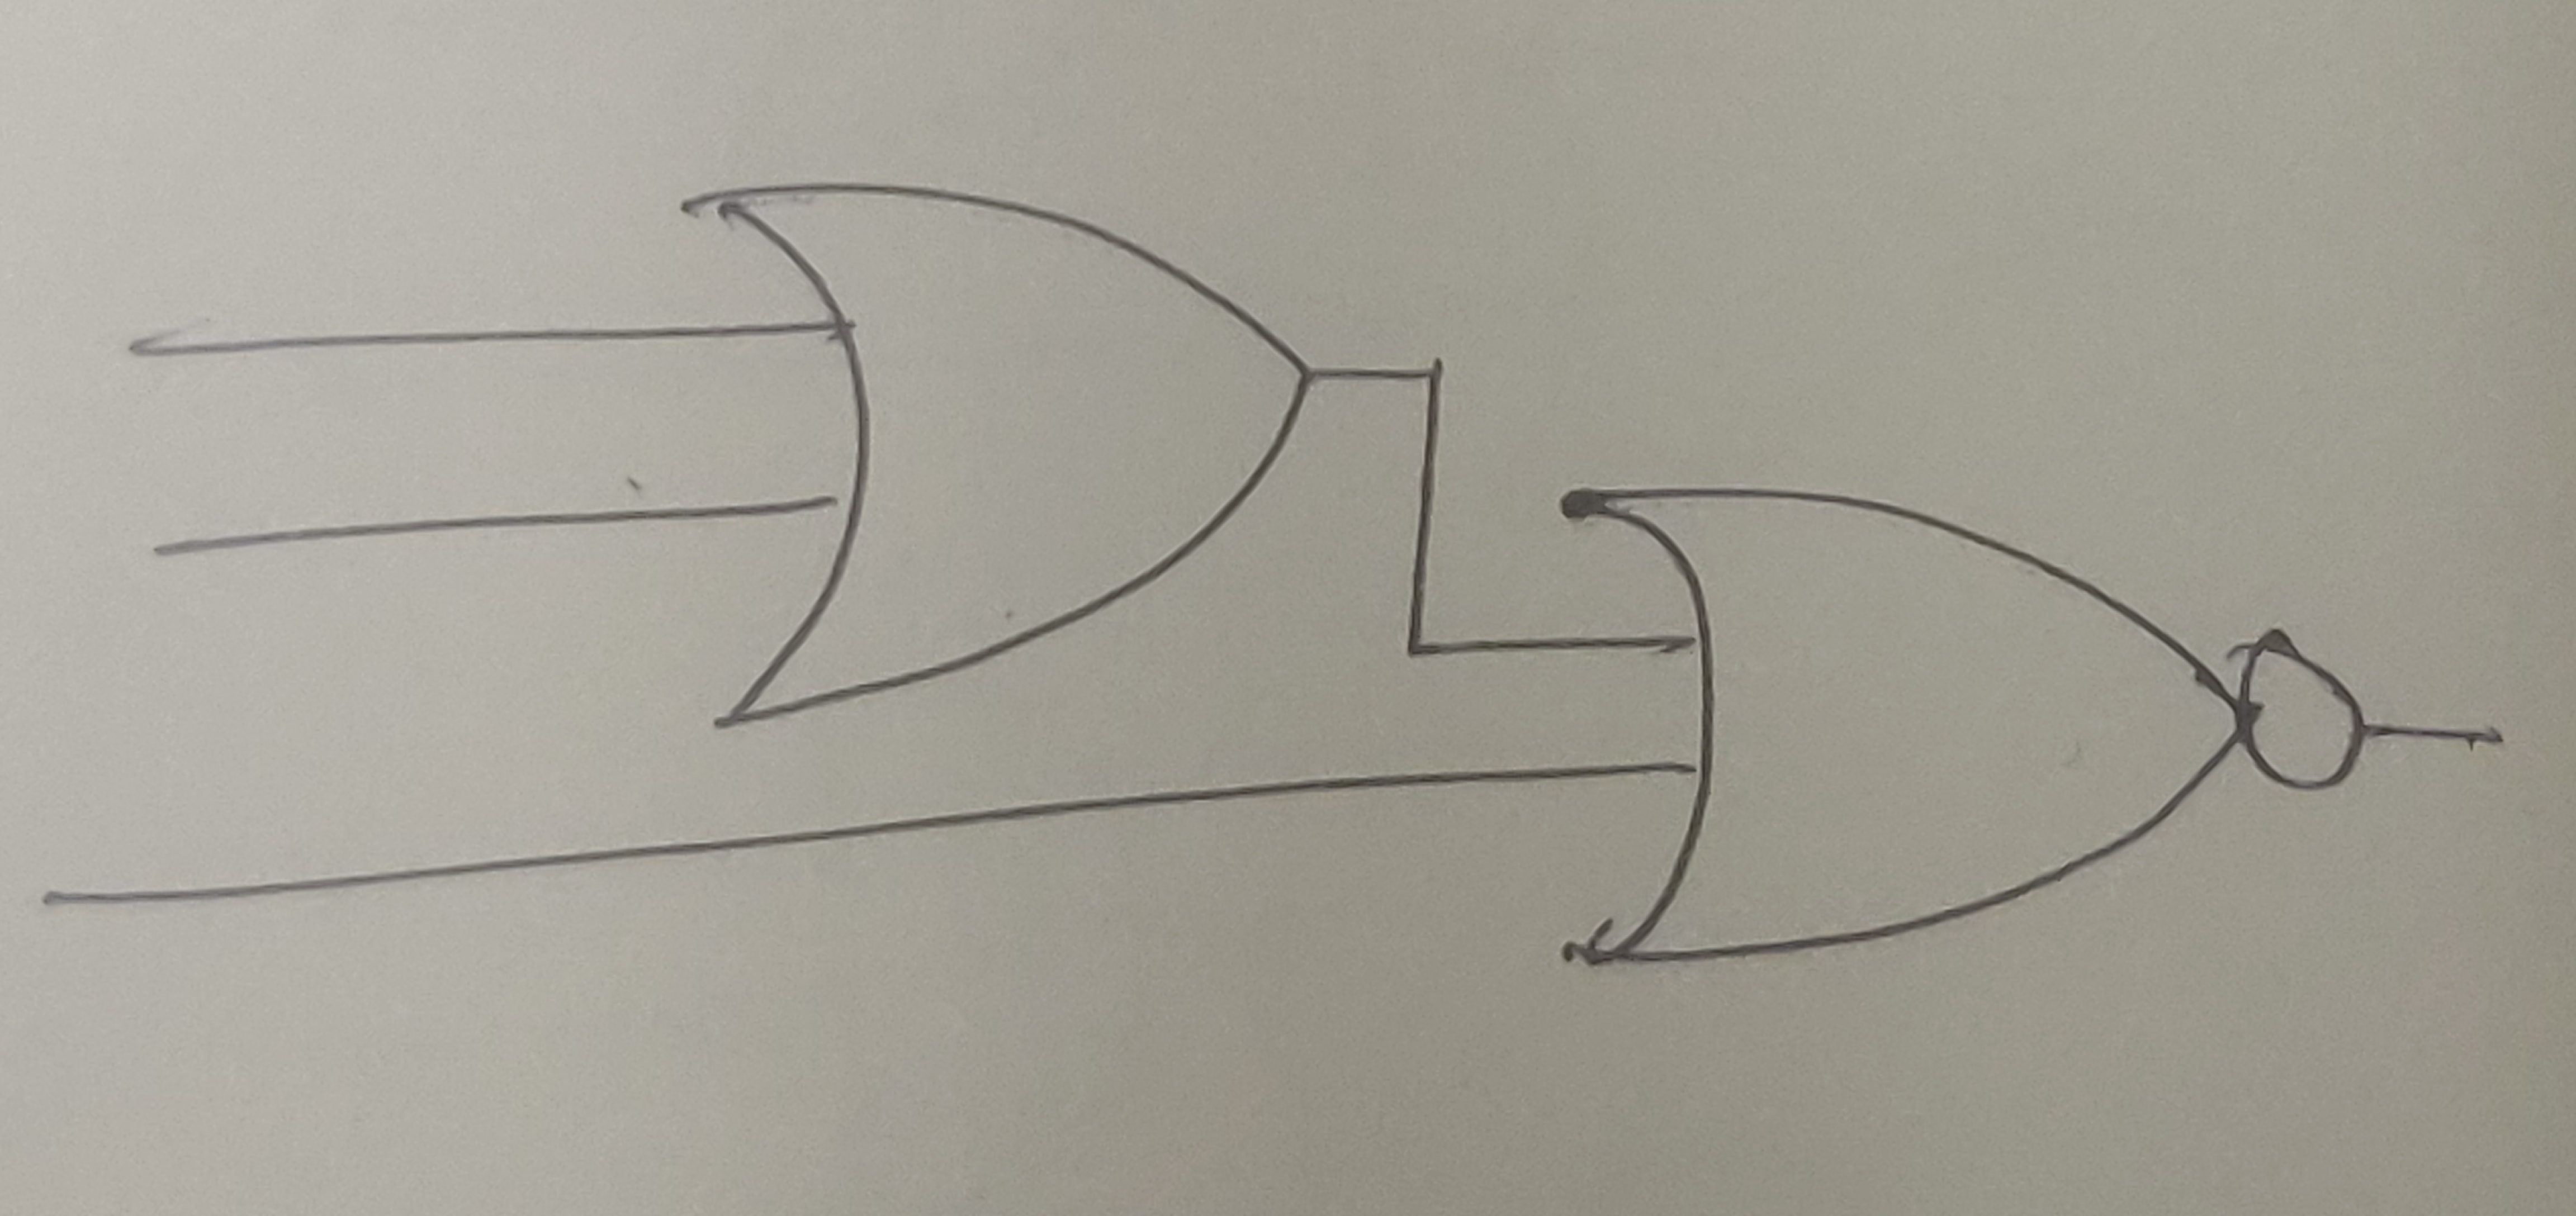not: (2238, 628, 2366, 802)
or: (670, 177, 1324, 733), (1557, 486, 2257, 966)
